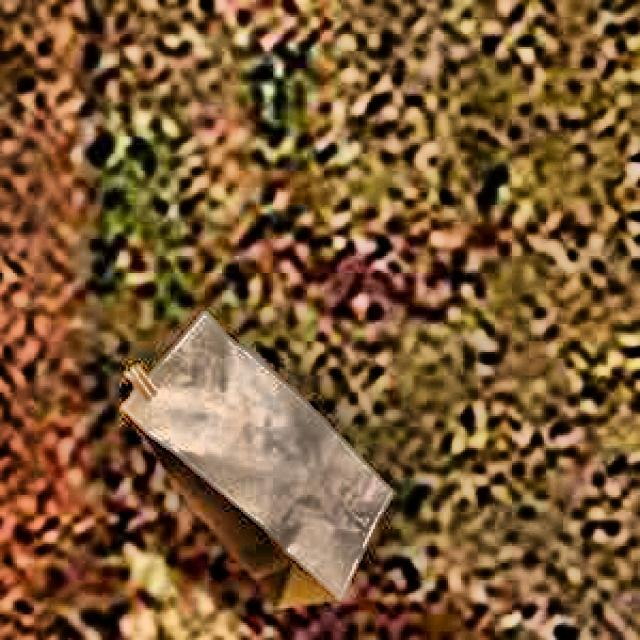Paper-bag: (92, 311, 392, 606)
